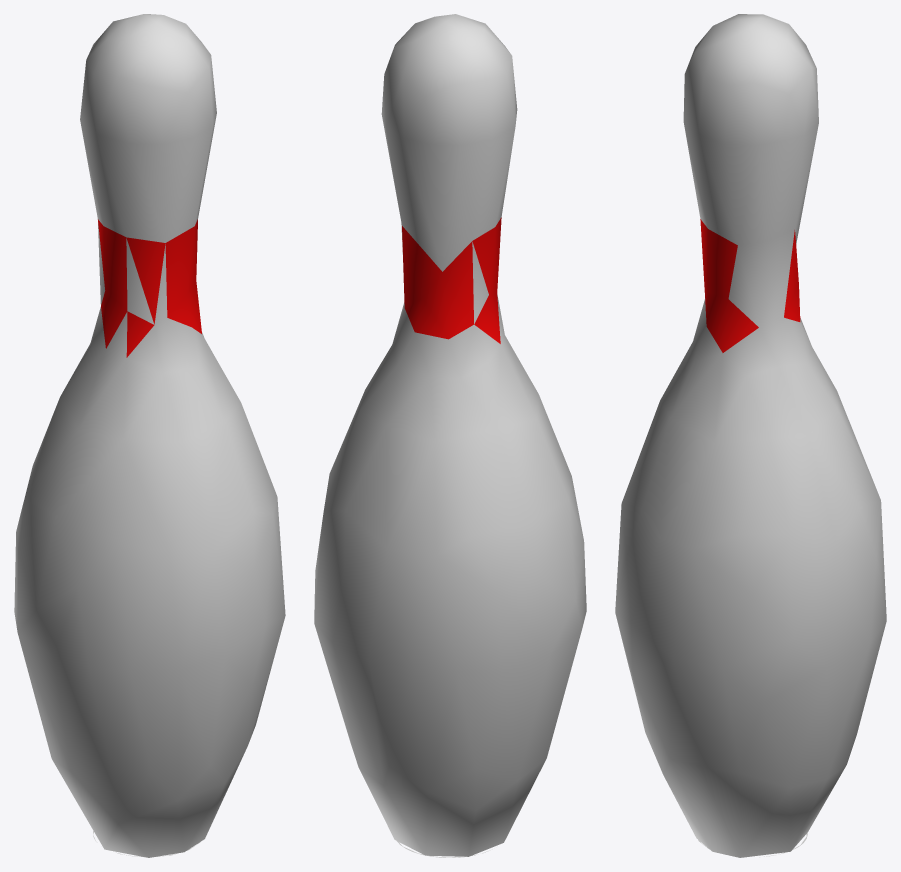
The model's file is bowling-pin.fbx.
3 views of the same model, side by side, from view 1: azimuth 30°, elevation 25°; view 2: azimuth 150°, elevation 25°; view 3: azimuth 270°, elevation 25° (orthographic).
Visible parts, largest first — view 1: bowling-pin; view 2: bowling-pin; view 3: bowling-pin.
Part boxes in pixels (x1,y1,x2,y2): bowling-pin: (14,14,285,857); bowling-pin: (314,14,586,857); bowling-pin: (615,14,886,857).
Bounding box in the file's own units: 163 × 540 × 163.
